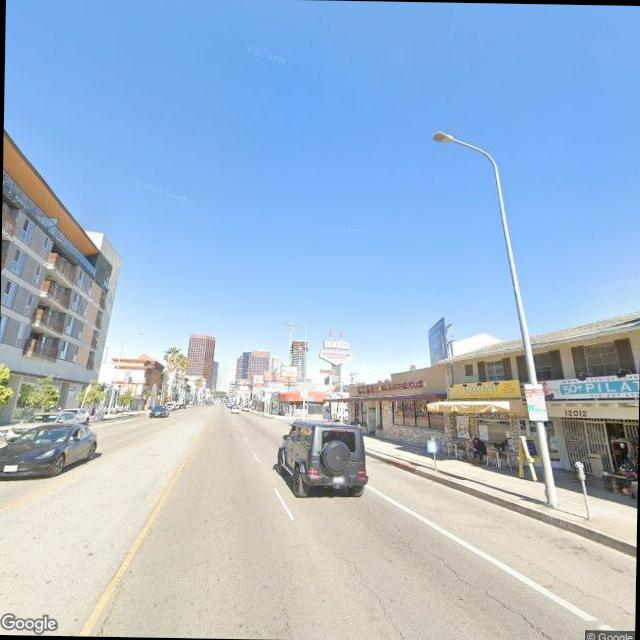crack: (418, 542, 576, 640), (327, 549, 417, 640), (350, 488, 411, 542)
